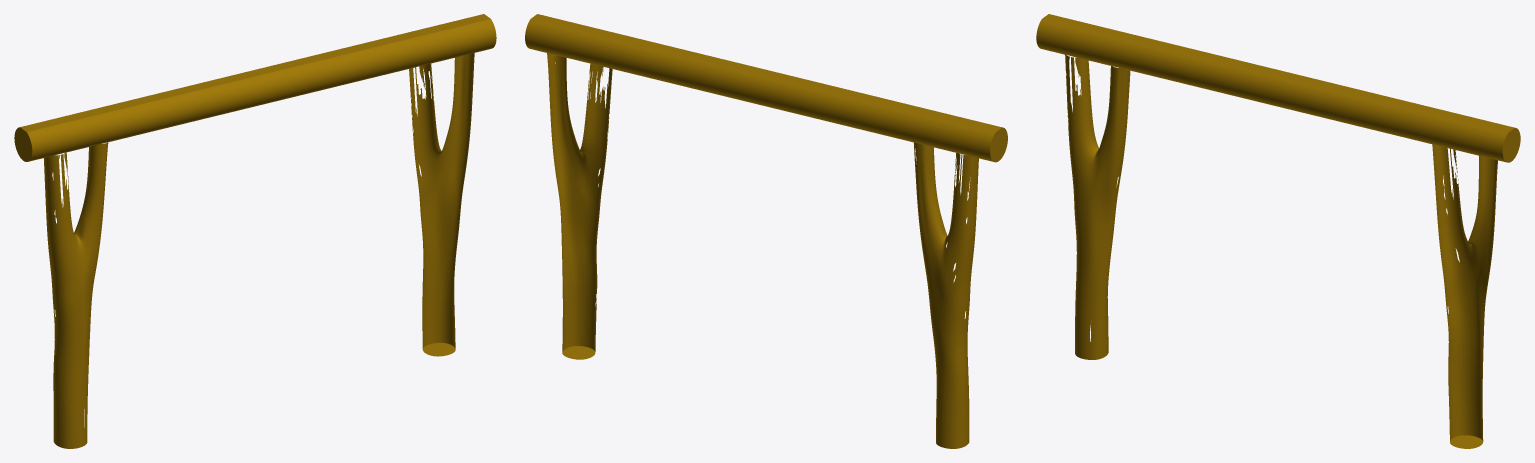
Rendered from 3_decorative.glb.
3 views of the same model, side by side, from view 1: azimuth 30°, elevation 25°; view 2: azimuth 150°, elevation 25°; view 3: azimuth 330°, elevation 25° (orthographic).
Visible parts, largest first — view 1: skp7912; view 2: skp7912; view 3: skp7912.
Part boxes in pixels (x1,y1,x2,y2): skp7912: (14, 14, 496, 448); skp7912: (525, 14, 1007, 448); skp7912: (1036, 14, 1520, 448).
Bounding box in the file's own units: 4.58 × 3.05 × 0.3169.
